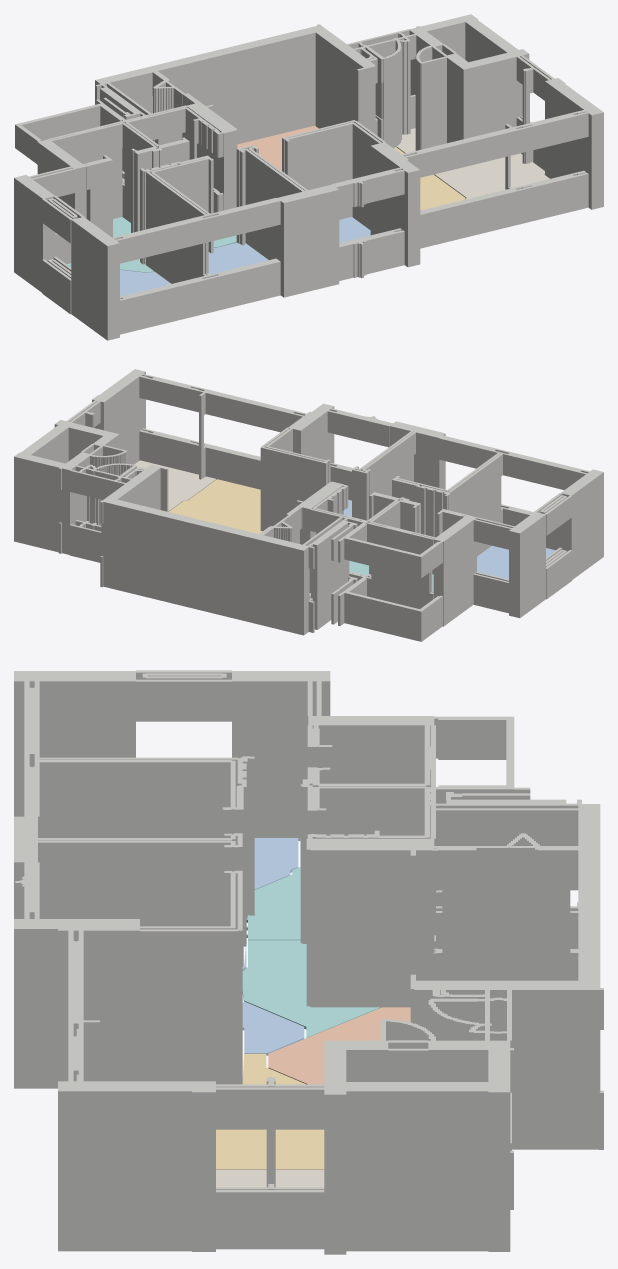
The picture shows the model from 3 angles, top to bottom: view 1: azimuth 30°, elevation 25°; view 2: azimuth 150°, elevation 25°; view 3: azimuth 270°, elevation 25°; orthographic projection. The views are drawn at different scales.
Parts seen in each view (by area): view 1: walls, room:other:8, room:bedroom:10, room:living:6, room:kitchen:0, room:bedroom:7, room:bath:3, room:bedroom:9; view 2: walls, room:living:6, room:other:8, room:bedroom:7; view 3: walls, room:bath:5, room:living:6, room:kitchen:0, room:bath:3, room:bedroom:9, room:bedroom:7, room:other:8.
Part boxes in pixels (x1,y1,x2,y2): walls: (14, 14, 603, 340); room:other:8: (396, 128, 549, 199); room:bedroom:10: (208, 243, 268, 274); room:living:6: (394, 147, 465, 210); room:kitchen:0: (237, 125, 318, 170); room:bedroom:7: (70, 266, 171, 296); room:bath:3: (67, 217, 153, 272); room:bedroom:9: (339, 217, 370, 242); walls: (14, 369, 603, 641); room:living:6: (169, 479, 262, 533); room:other:8: (134, 460, 216, 511); room:bedroom:7: (477, 545, 555, 579); walls: (14, 670, 603, 1254); room:bath:5: (242, 940, 380, 1037); room:living:6: (216, 1053, 324, 1169); room:kitchen:0: (268, 1007, 410, 1084); room:bath:3: (246, 838, 300, 940); room:bedroom:9: (242, 1001, 304, 1055); room:bedroom:7: (254, 838, 298, 889); room:other:8: (216, 1169, 324, 1187).
Size of the model in its own units: 15.95 by 2.8 by 9.37.
